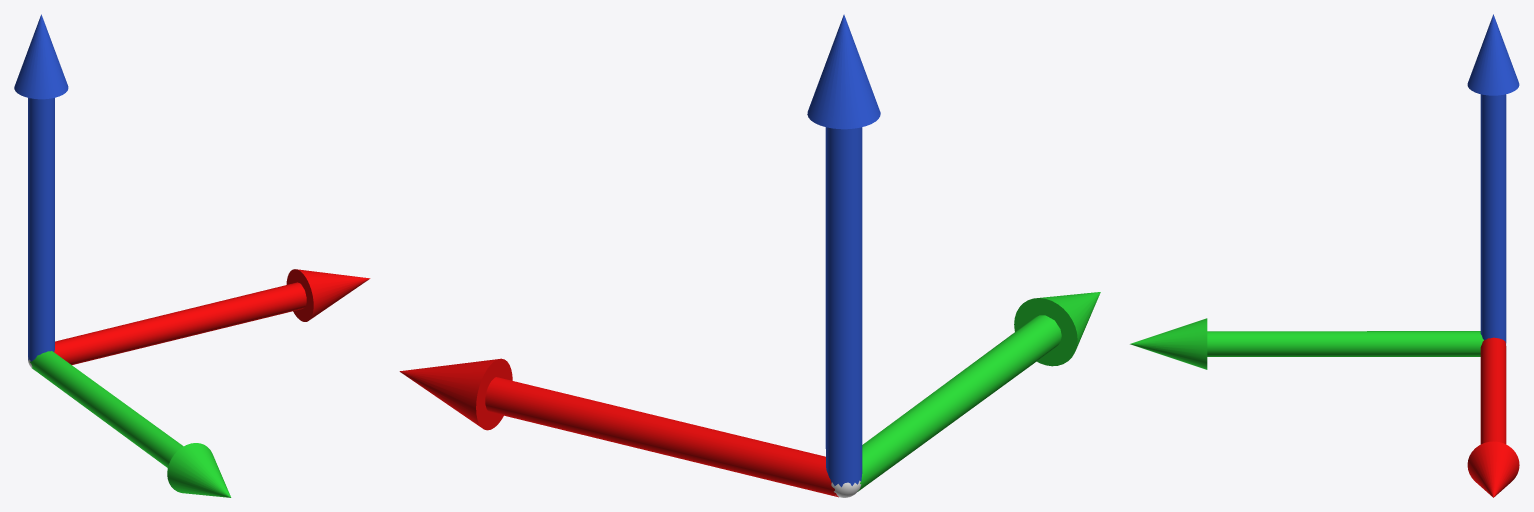
The model's file is XYZ.glb.
3 views of the same model, side by side, from view 1: azimuth 30°, elevation 25°; view 2: azimuth 150°, elevation 25°; view 3: azimuth 270°, elevation 25° (orthographic). The views are drawn at different scales.
Parts seen in each view (by area): view 1: Object_5, Object_3, Object_4; view 2: Object_5, Object_3, Object_4; view 3: Object_4, Object_5, Object_3.
Part boxes in pixels (bbox=[...]): Object_5: bbox=[14, 14, 68, 361]; Object_3: bbox=[54, 269, 370, 364]; Object_4: bbox=[30, 351, 231, 497]; Object_5: bbox=[807, 14, 880, 487]; Object_3: bbox=[399, 358, 838, 497]; Object_4: bbox=[857, 292, 1100, 491]; Object_4: bbox=[1130, 318, 1483, 369]; Object_5: bbox=[1467, 14, 1519, 342]; Object_3: bbox=[1467, 337, 1519, 497].
Size of the model in its own units: 30.01 by 30.02 by 30.
